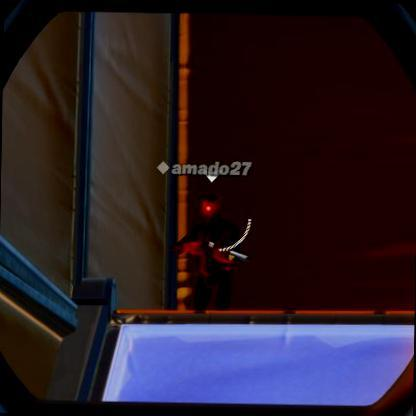person: (171, 194, 250, 314)
